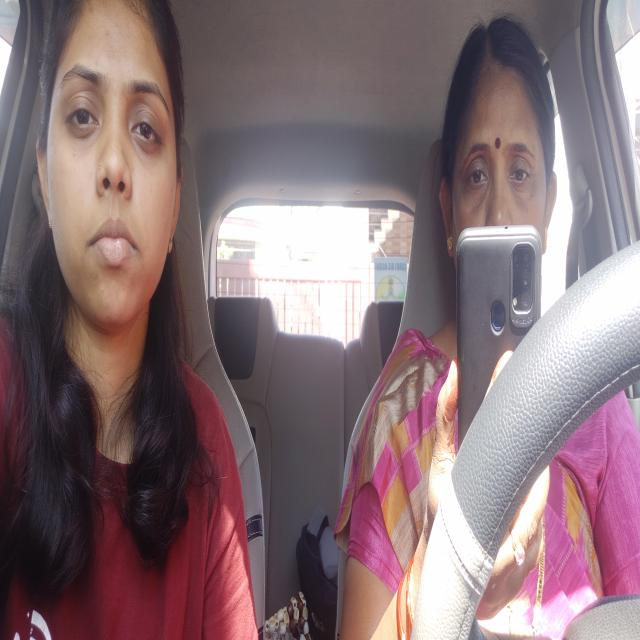mobile: (458, 226, 540, 464)
person: (26, 0, 185, 325), (444, 15, 557, 275)
